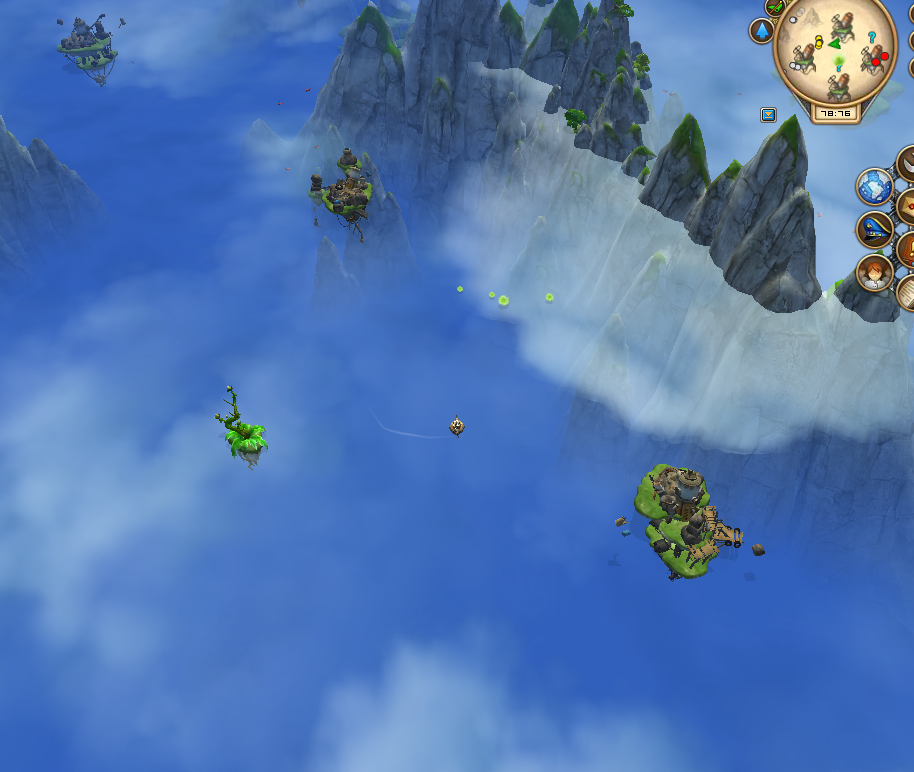dandelion-empty: (210, 379, 273, 470)
fluff: (497, 293, 511, 308), (543, 290, 557, 303), (455, 281, 464, 297), (486, 288, 497, 301)
